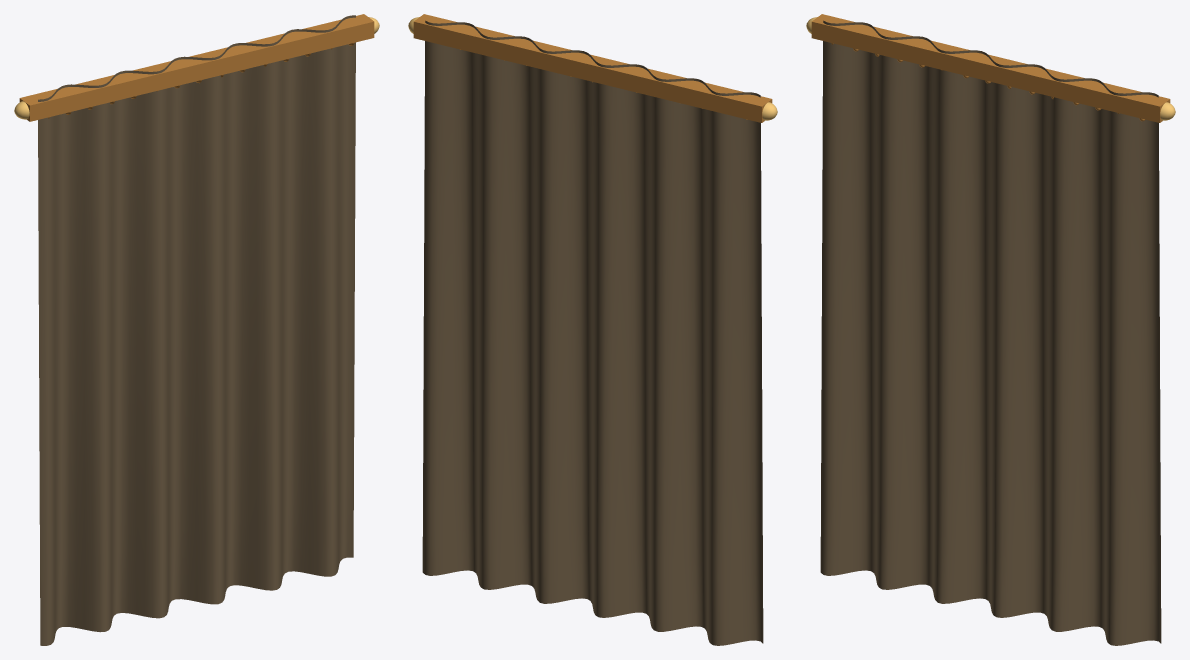
File: mia-drape.glb
3 renders of one model, left to right at view 1: azimuth 30°, elevation 25°; view 2: azimuth 150°, elevation 25°; view 3: azimuth 330°, elevation 25°, orthographic.
Visible parts, largest first — view 1: Body_curtain-fabric, Body_brass; view 2: Body_curtain-fabric, Body_brass; view 3: Body_curtain-fabric, Body_brass.
Boxes of the visible parts, left/top/right/bottom form: Body_curtain-fabric: left=38, top=15, right=355, bottom=645; Body_brass: left=19, top=14, right=374, bottom=121; Body_curtain-fabric: left=422, top=20, right=763, bottom=645; Body_brass: left=413, top=14, right=772, bottom=122; Body_curtain-fabric: left=820, top=20, right=1161, bottom=645; Body_brass: left=811, top=14, right=1170, bottom=122.
Size of the model in its own units: 2.23 by 3.2 by 0.1684.
